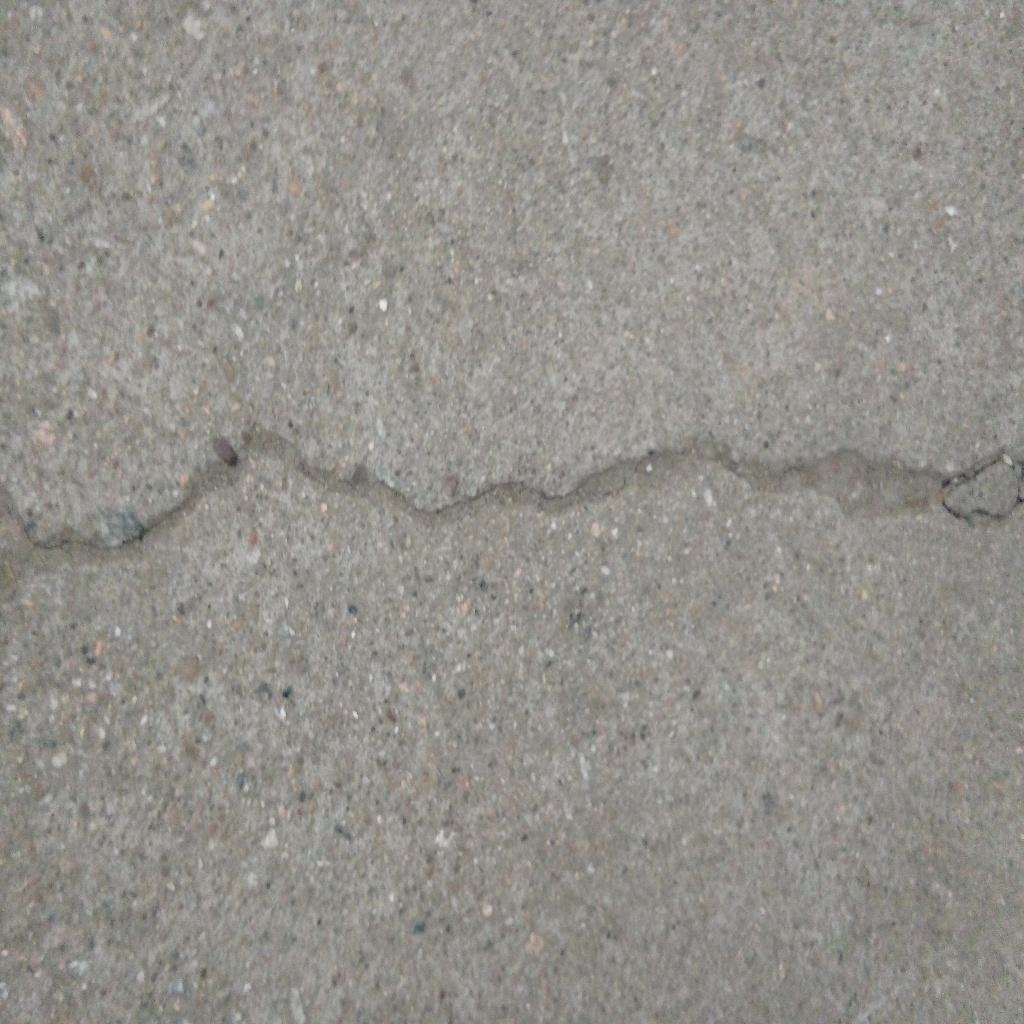Crack: (1, 424, 1024, 607)
